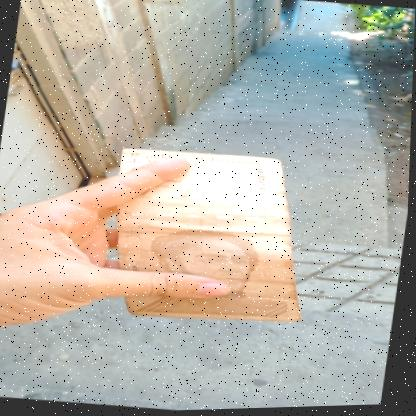five-front-vef: (99, 143, 325, 334)
